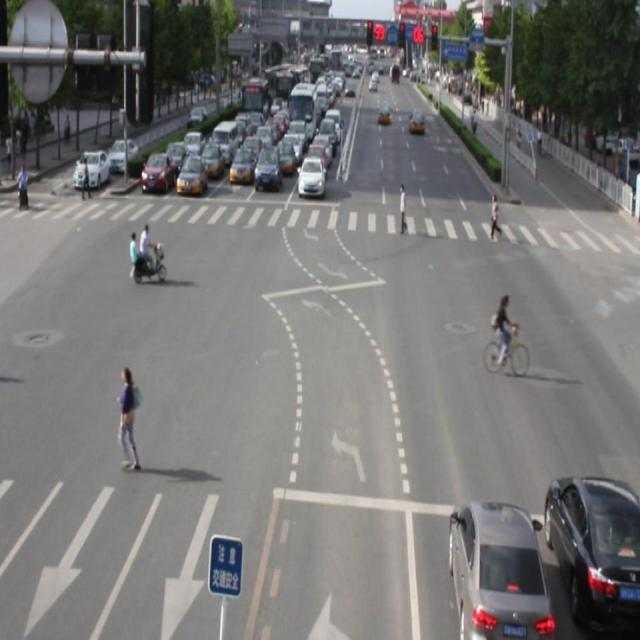car: (436, 476, 558, 640), (544, 445, 640, 640), (71, 137, 108, 200), (136, 154, 175, 202), (298, 146, 328, 204), (203, 126, 228, 190), (254, 146, 280, 207), (228, 139, 253, 198), (156, 135, 189, 176), (177, 152, 205, 198), (311, 137, 332, 172), (410, 101, 426, 136), (378, 104, 398, 132)
